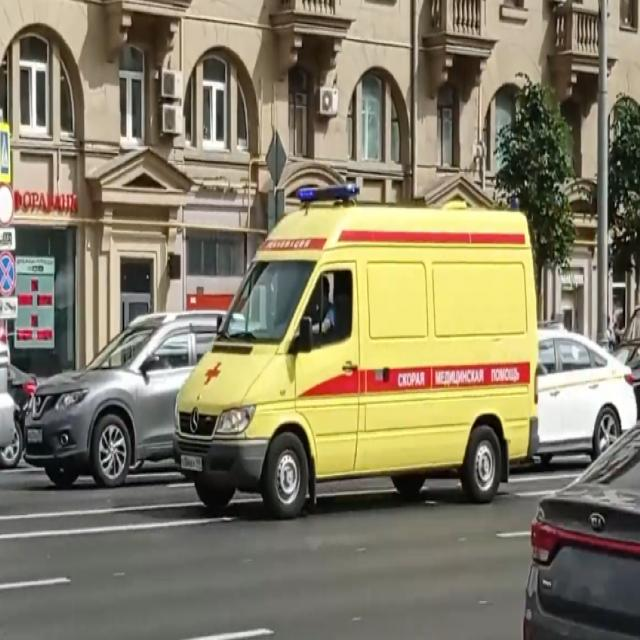intensive care unit: (174, 187, 541, 519)
non emergency car: (26, 311, 227, 492), (519, 420, 640, 638), (541, 324, 635, 470)
